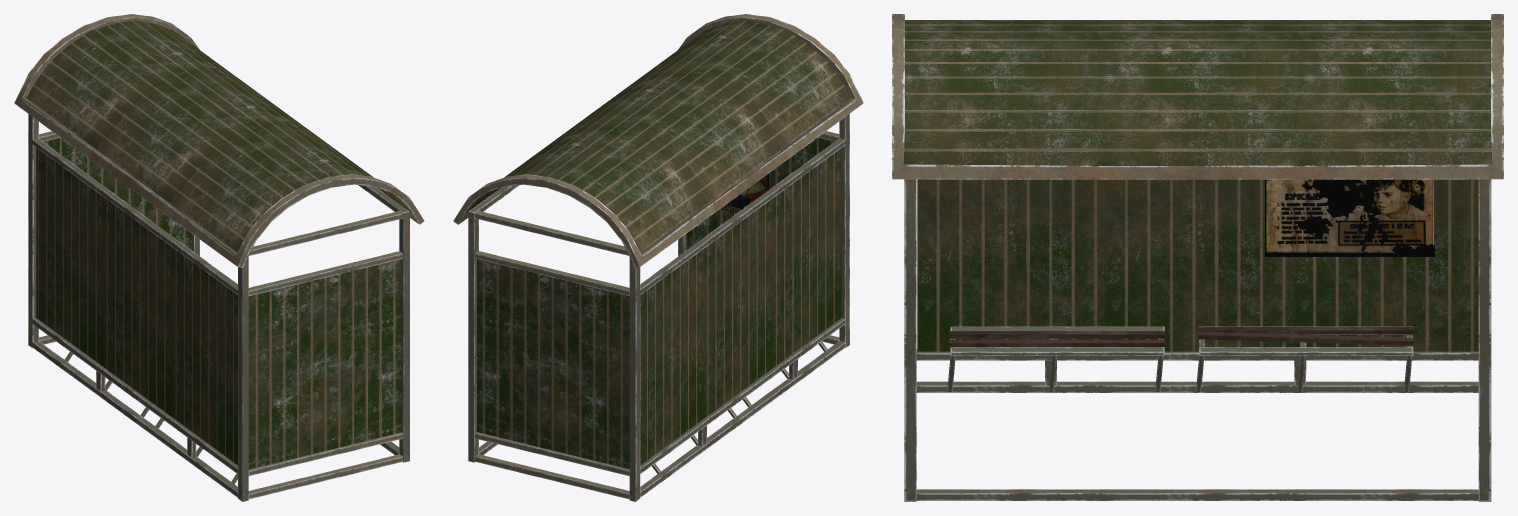
Rendered from busstop.glb.
3 views of the same model, side by side, from view 1: azimuth 30°, elevation 25°; view 2: azimuth 150°, elevation 25°; view 3: azimuth 270°, elevation 25° (orthographic). The views are drawn at different scales.
Visible parts, largest first — view 1: bus_stop; view 2: bus_stop, for_bus; view 3: bus_stop, for_bus.
Part boxes in pixels (x1=…): bus_stop: x1=14, y1=14, x2=424, y2=501; bus_stop: x1=453, y1=14, x2=863, y2=501; for_bus: x1=721, y1=173, x2=768, y2=212; bus_stop: x1=892, y1=14, x2=1503, y2=501; for_bus: x1=1265, y1=179, x2=1434, y2=256.
Bounding box in the file's own units: 14.77 × 22.91 × 30.52.
Materials: 2 (2 with a texture image).
